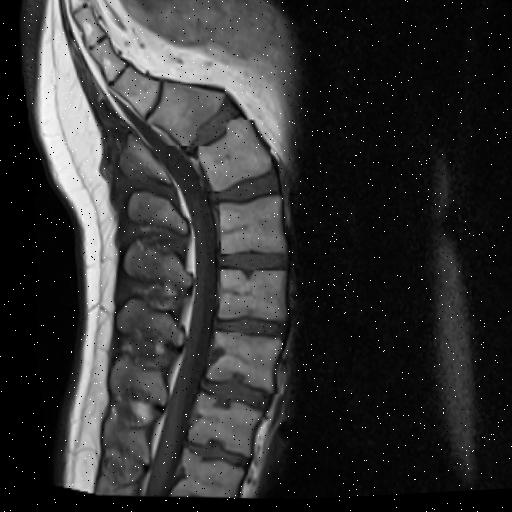L1: (178, 395, 252, 458)
L2: (198, 333, 273, 395)
L3: (212, 271, 278, 320)
L4: (214, 197, 279, 256)
L5: (194, 121, 266, 192)
S1: (147, 84, 222, 147)
